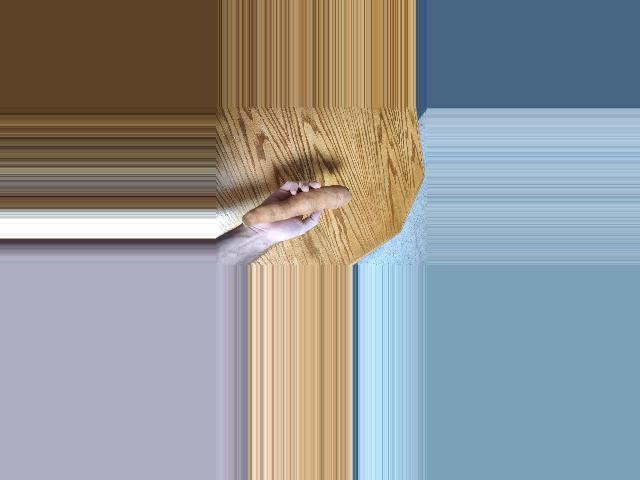sweet_potato: (246, 183, 354, 223)
